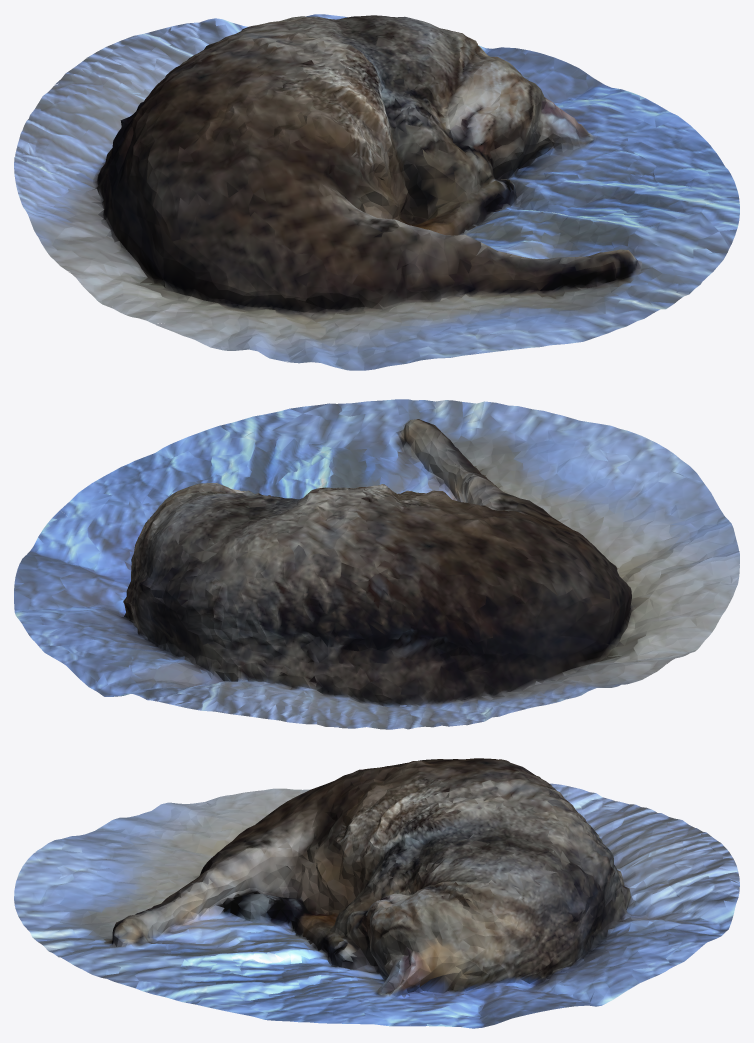
Rendered from catsleep.obj.
The picture shows the model from 3 angles, top to bottom: view 1: azimuth 30°, elevation 25°; view 2: azimuth 150°, elevation 25°; view 3: azimuth 270°, elevation 25°; orthographic projection. The views are drawn at different scales.
Visible parts, largest first — view 1: Scaniverse; view 2: Scaniverse; view 3: Scaniverse.
Part boxes in pixels (x1,y1,x2,y2): Scaniverse: (14,14,739,370); Scaniverse: (14,399,739,729); Scaniverse: (14,758,739,1028).
Size of the model in its own units: 30.21 by 7.01 by 35.74.
